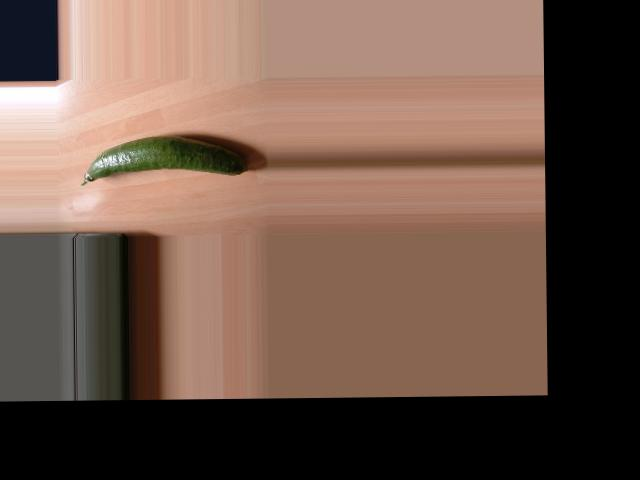cucumber: (79, 133, 249, 185)
